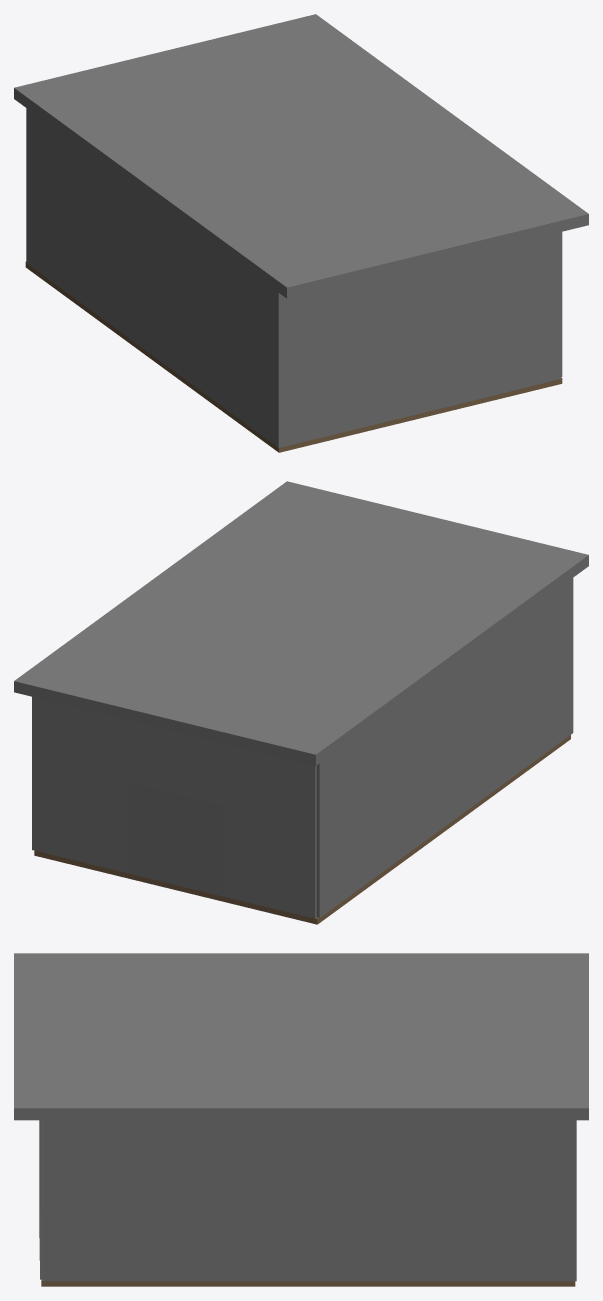
3 renders of one model, top to bottom at view 1: azimuth 30°, elevation 25°; view 2: azimuth 150°, elevation 25°; view 3: azimuth 270°, elevation 25°, orthographic. The views are drawn at different scales.
Visible parts, largest first — view 1: Cube, walls.004_Plane.036, walls.004_Plane.001, floor.004_Plane.037; view 2: Cube, walls.004_Plane.001, floor.004_Plane.037; view 3: Cube, walls.004_Plane.036, floor.004_Plane.037.
Part boxes in pixels (<box>): Cube: <box>14,14,588,298</box>; walls.004_Plane.036: <box>280,232,562,447</box>; walls.004_Plane.001: <box>26,108,280,447</box>; floor.004_Plane.037: <box>25,261,562,452</box>; Cube: <box>14,481,588,765</box>; walls.004_Plane.001: <box>33,578,573,918</box>; floor.004_Plane.037: <box>34,735,570,924</box>; Cube: <box>14,953,588,1120</box>; walls.004_Plane.036: <box>39,1120,576,1281</box>; floor.004_Plane.037: <box>41,1279,575,1286</box>.
Bounding box in the file's own units: 878 × 489 × 1375.
